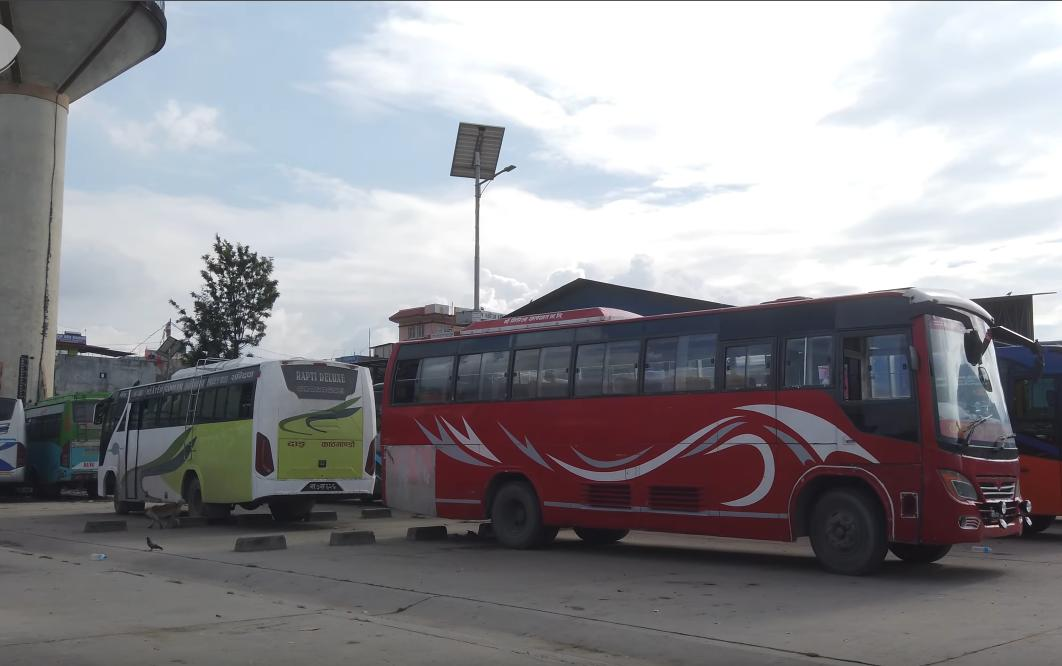bus: (372, 272, 1038, 575), (84, 349, 379, 532)
